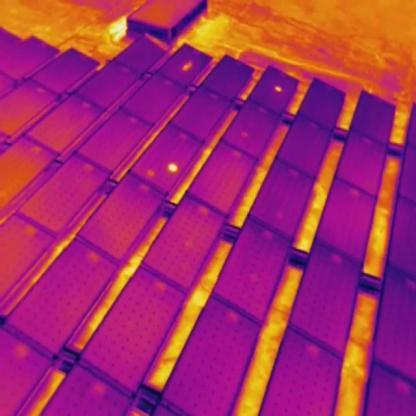anomaly: (165, 161, 181, 175), (180, 59, 197, 72), (272, 83, 285, 94)
